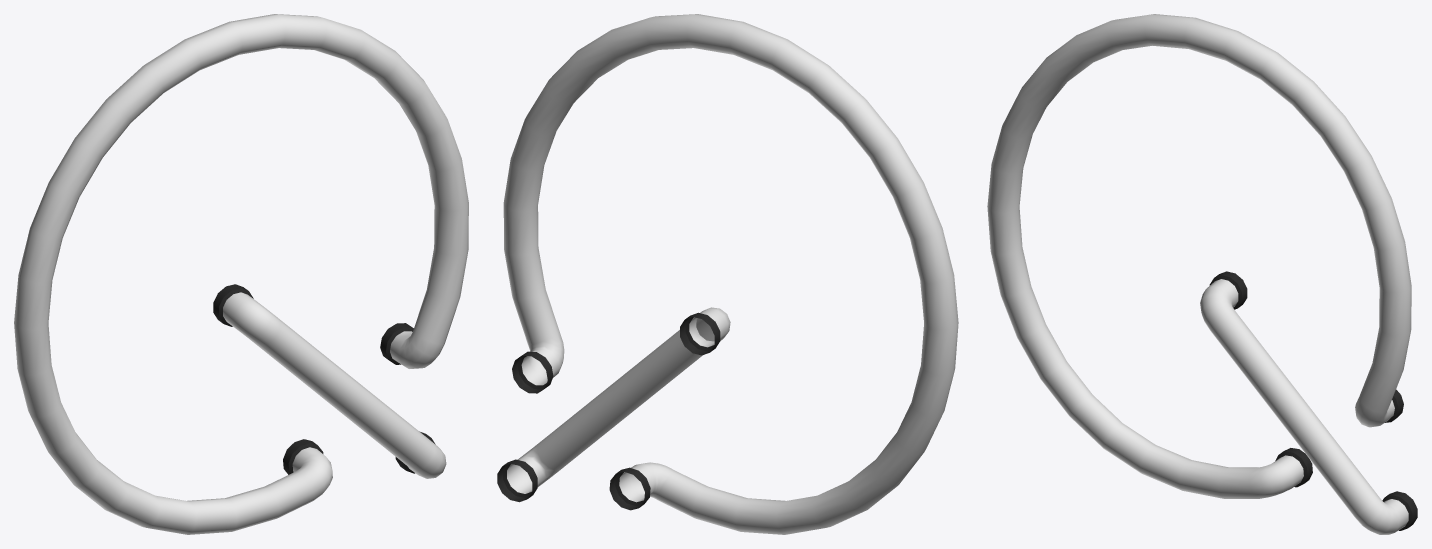
File: LettersNeon01_Q.FBX
3 views of the same model, side by side, from view 1: azimuth 30°, elevation 25°; view 2: azimuth 150°, elevation 25°; view 3: azimuth 330°, elevation 25° (orthographic). The views are drawn at different scales.
Parts seen in each view (by area): view 1: LettersNeon01_Q; view 2: LettersNeon01_Q; view 3: LettersNeon01_Q.
Part boxes in pixels (bbox=[...]): LettersNeon01_Q: bbox=[14, 14, 468, 534]; LettersNeon01_Q: bbox=[497, 14, 958, 534]; LettersNeon01_Q: bbox=[987, 14, 1417, 534].
Size of what is drawn, in the model's own units: 0.4536 by 0.4921 by 0.054.
